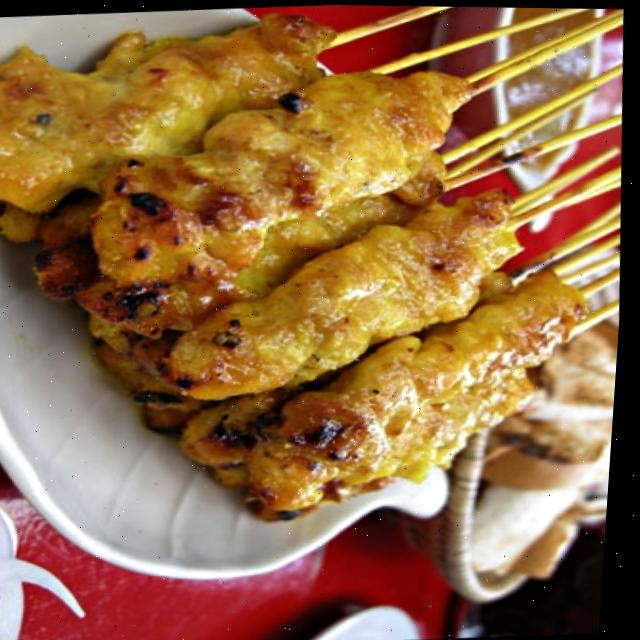牛肉菜式: (0, 0, 602, 606)
